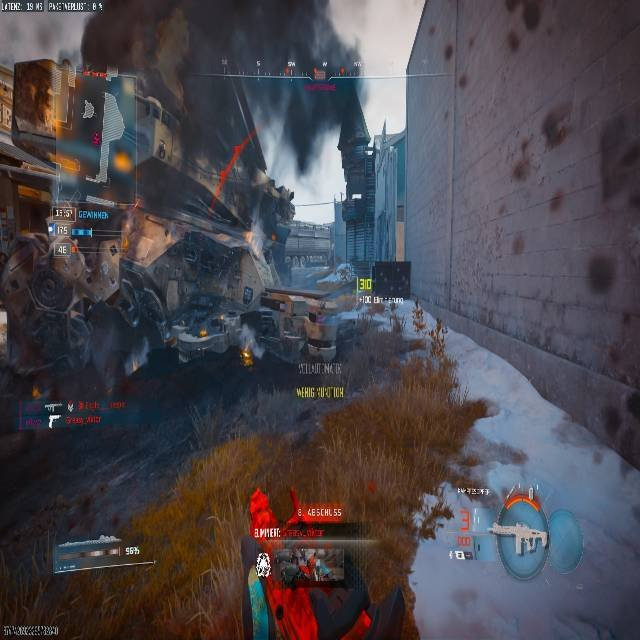head: (47, 240, 85, 278)
player: (0, 237, 100, 407)
